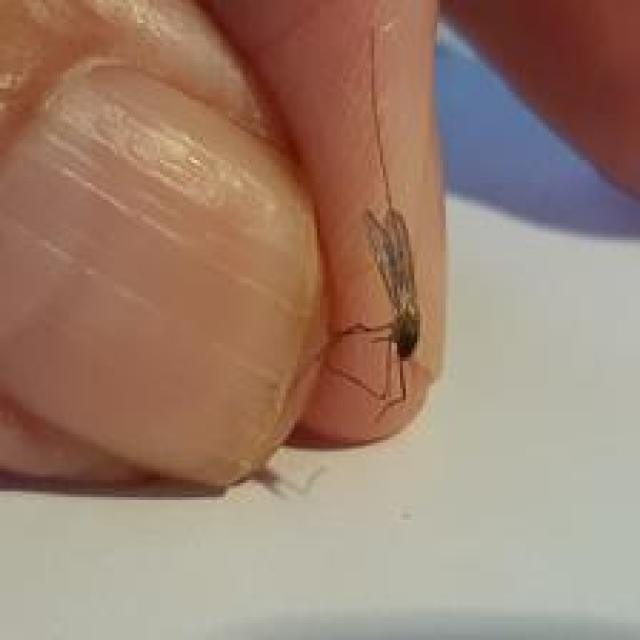Culex: (327, 20, 424, 414)
